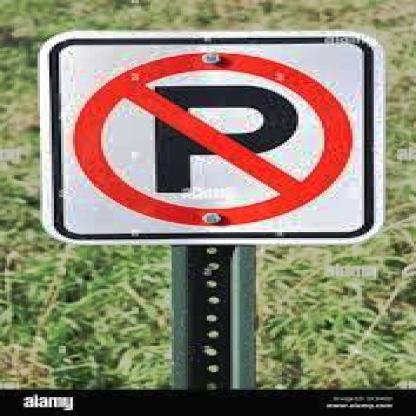No parking: (63, 49, 355, 227)
